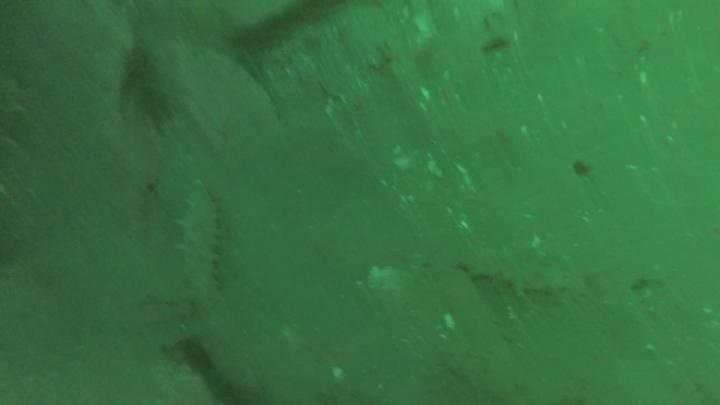holothurian: (171, 179, 228, 308), (453, 237, 571, 299)
